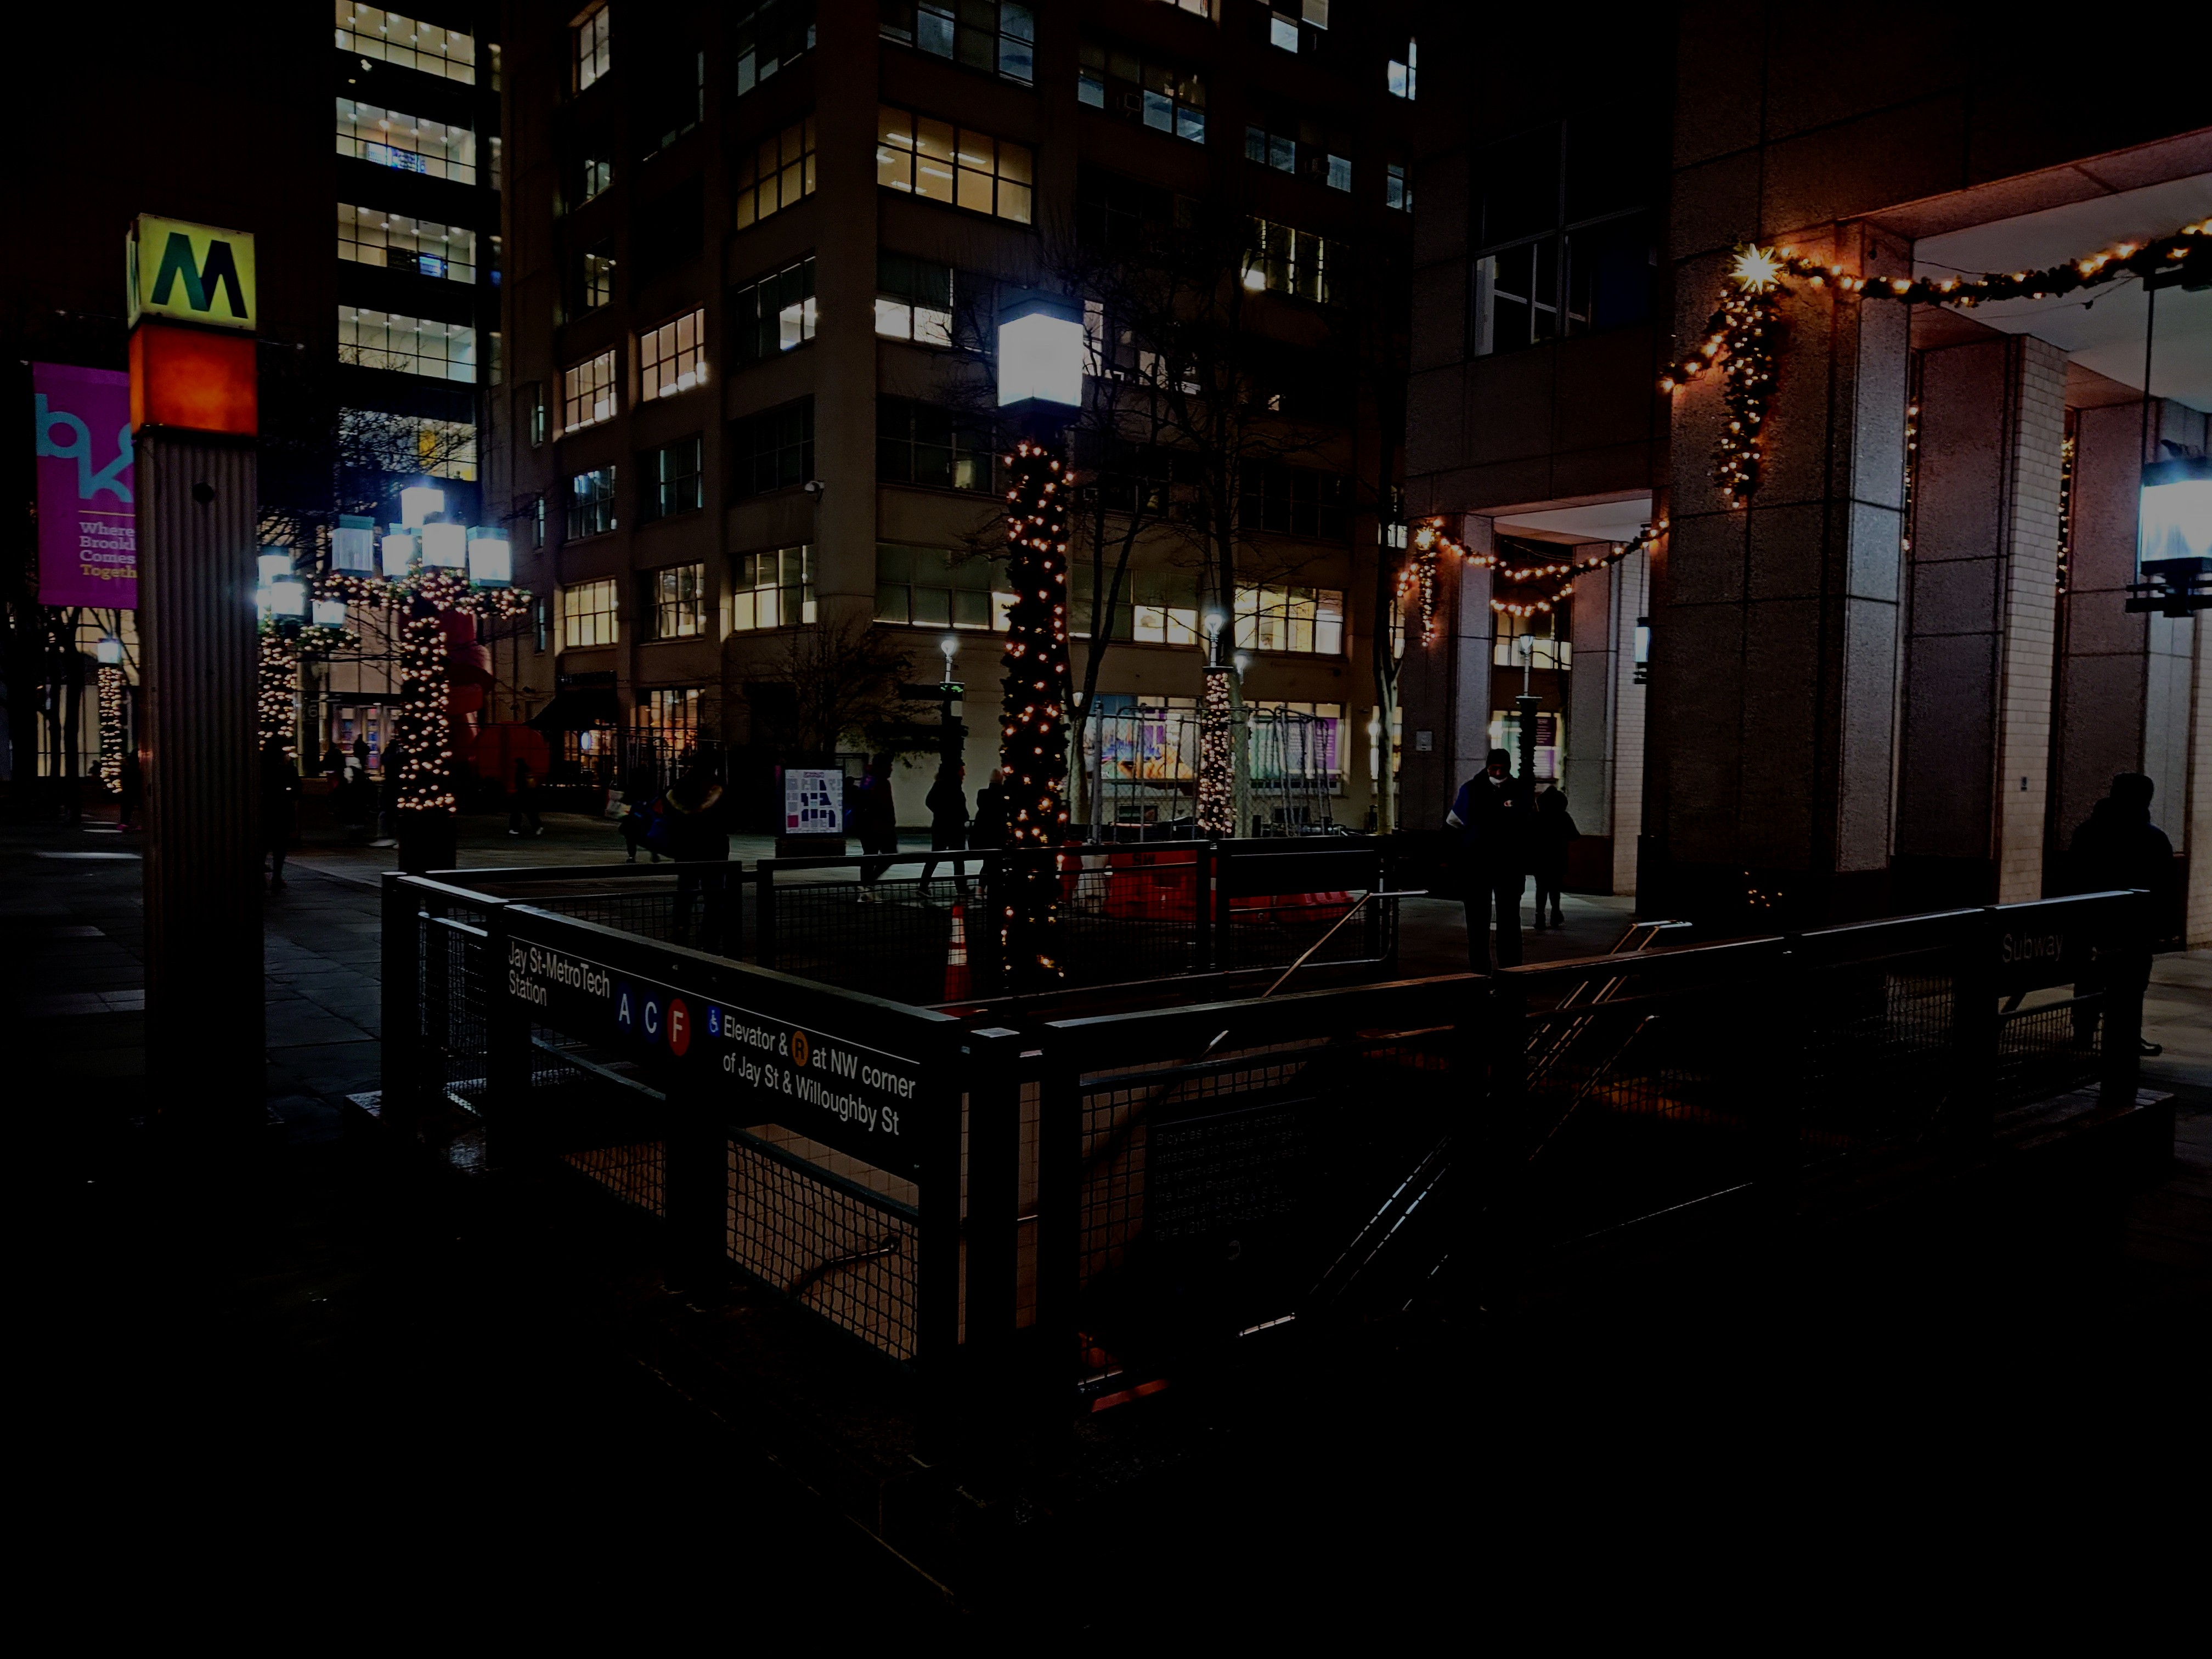person: (2064, 769, 2170, 1059), (1452, 749, 1534, 985), (667, 760, 732, 943), (922, 760, 971, 905), (851, 751, 898, 906), (1533, 785, 1579, 935), (258, 734, 300, 891), (972, 771, 1014, 901), (509, 755, 545, 838), (379, 740, 400, 836), (350, 733, 373, 774)
